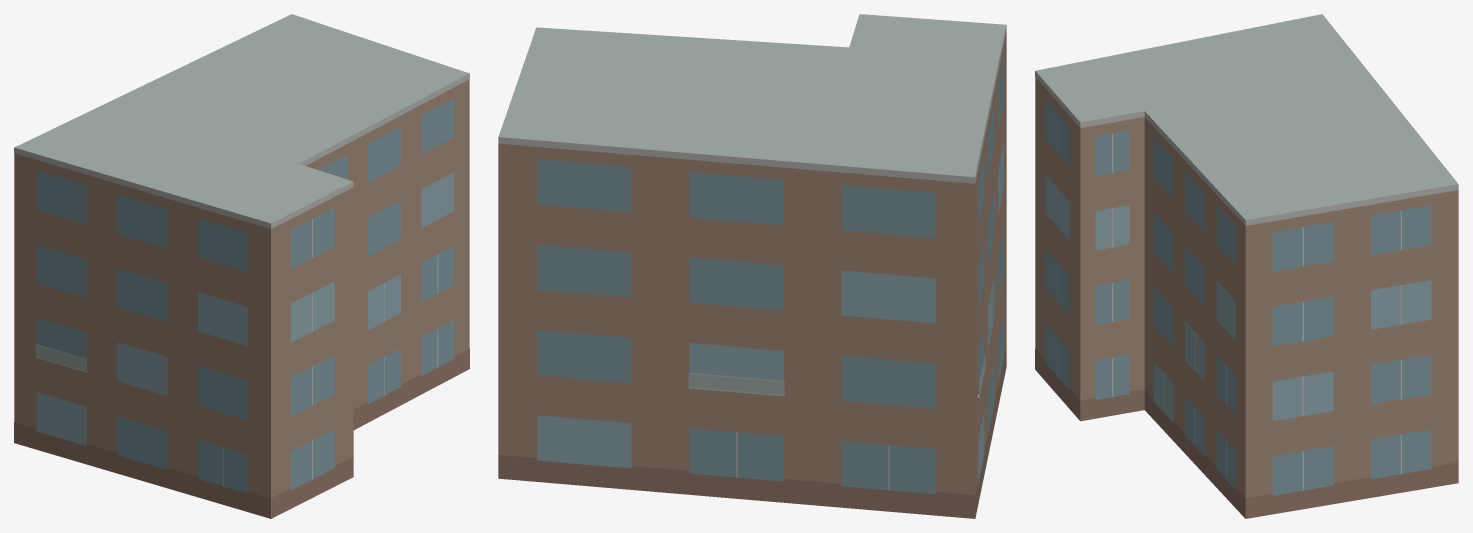
Rendered from survey-upis-32586044.glb.
The picture shows the model from 3 angles, left to right: view 1: azimuth 30°, elevation 25°; view 2: azimuth 150°, elevation 25°; view 3: azimuth 270°, elevation 25°; orthographic projection. The views are drawn at different scales.
Parts seen in each view (by area): view 1: survey-upis-32586044.tmp; view 2: survey-upis-32586044.tmp; view 3: survey-upis-32586044.tmp.
Boxes of the visible parts, x1,y1,x2,y2 form: survey-upis-32586044.tmp: (14, 14, 469, 518); survey-upis-32586044.tmp: (498, 14, 1006, 518); survey-upis-32586044.tmp: (1035, 14, 1458, 518).
Size of the model in its own units: 18.8 by 12.7 by 16.33.
